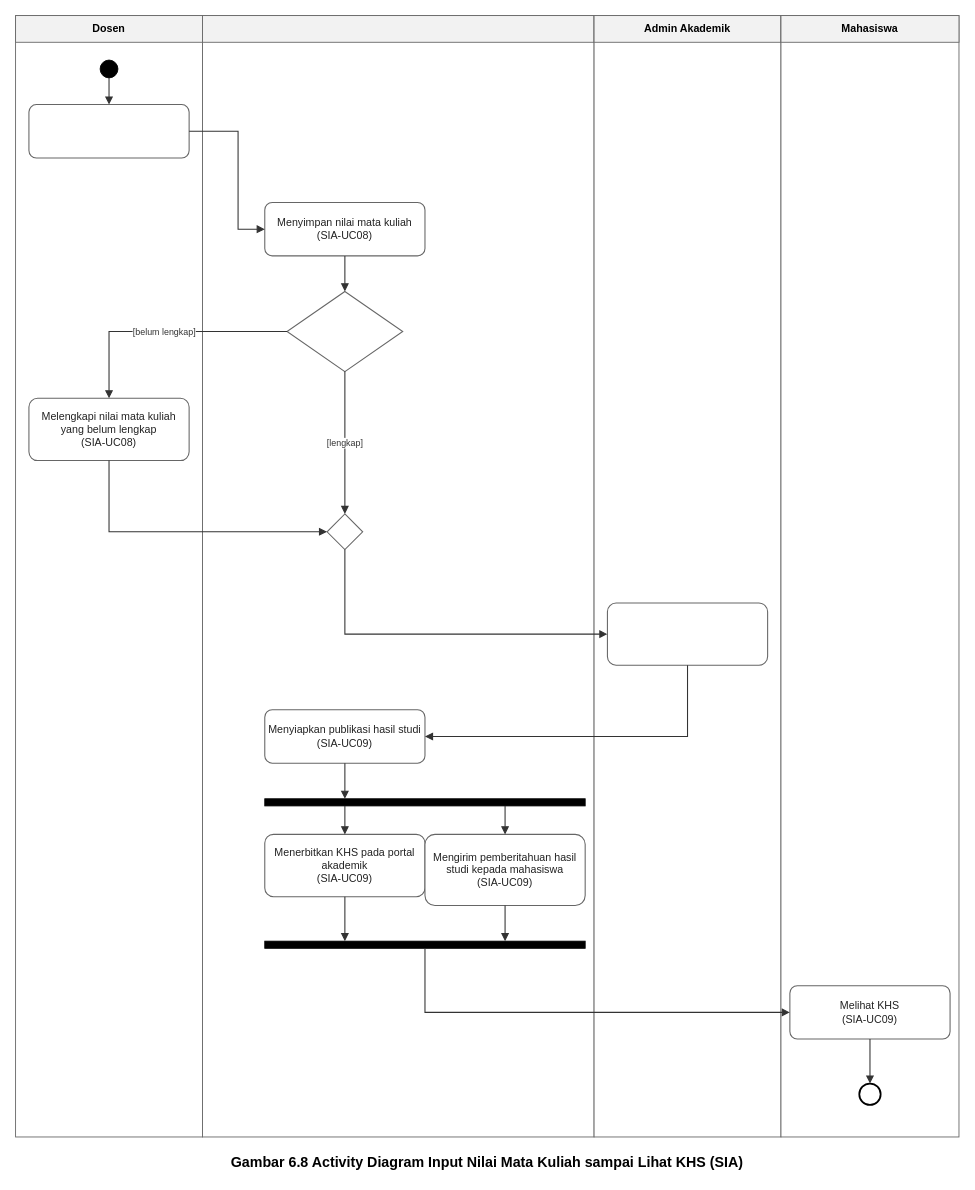
This 975x1190 diagram has some shape labels left out. Here are the shapes that lost their labels. From the top down, the box of each, then its label:
(202, 15, 594, 42): Sistem
(28, 104, 189, 158): Memasukkan nilai mata kuliah (SIA-UC08)
(286, 290, 403, 372): Nilai sudah lengkap?
(606, 602, 768, 665): Memeriksa dan mengesahkan nilai (SIA-UC08)
